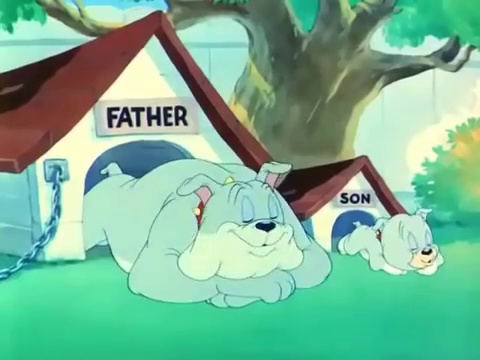spike: (175, 161, 309, 278)
